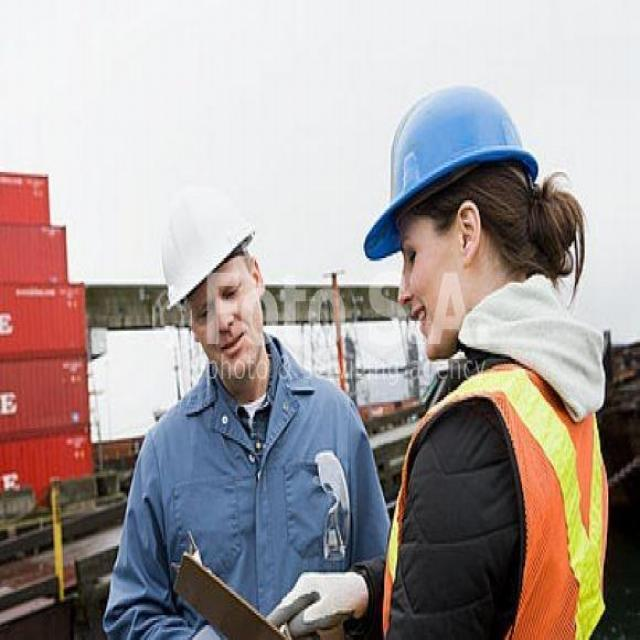gloves: (264, 569, 368, 639)
hard-hat: (363, 84, 539, 260), (160, 185, 255, 310)
person: (264, 84, 611, 639), (100, 185, 392, 639)
ppe-suit: (101, 333, 391, 639)
vest: (379, 325, 612, 639)
